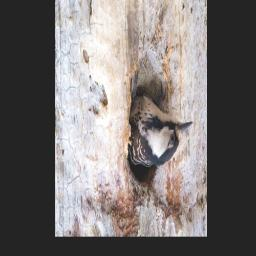Woodpecker: (130, 91, 193, 173)
